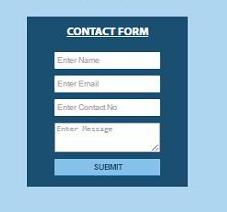button: (53, 158, 162, 177)
field: (53, 121, 160, 153), (53, 50, 162, 71), (53, 74, 161, 94), (53, 98, 161, 116)
